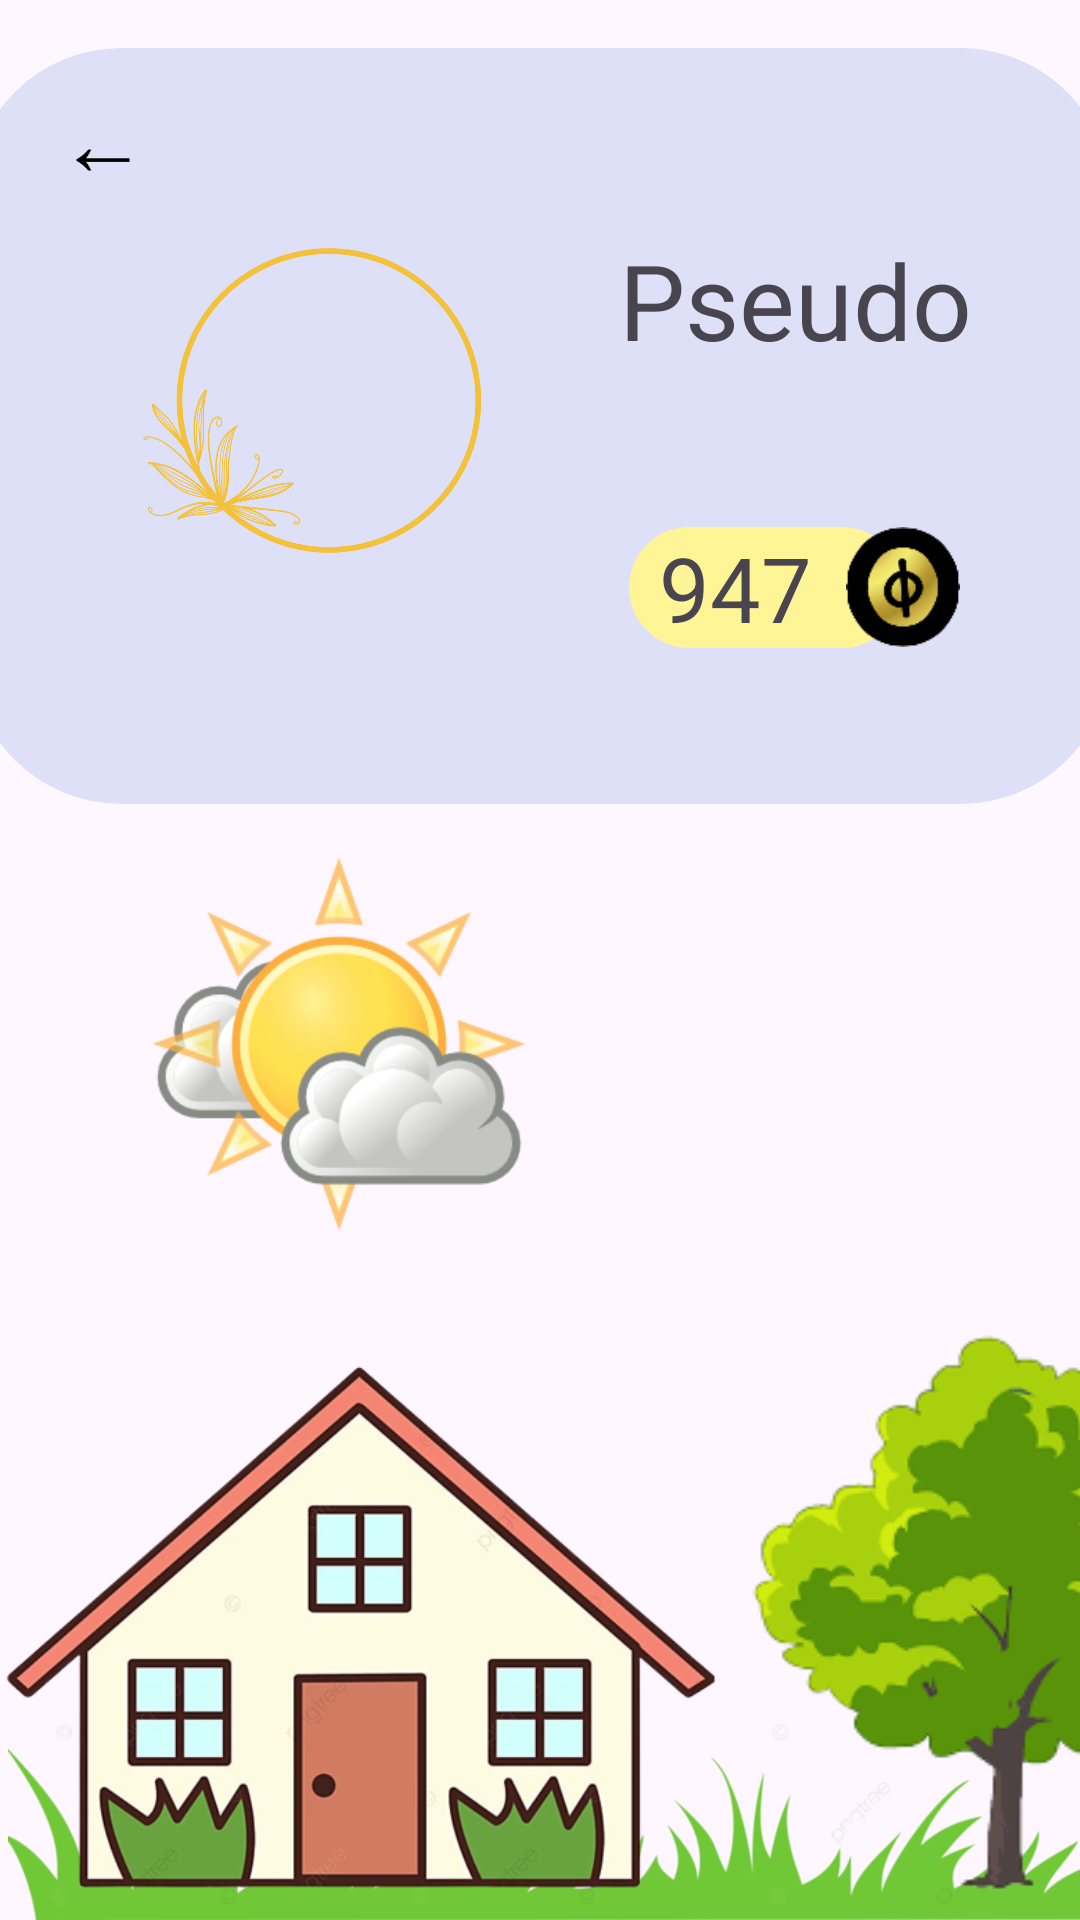

Point at icon controls on the screen. Image size 1080*1920, points as point (x, y).
cadre: point (312, 400)
